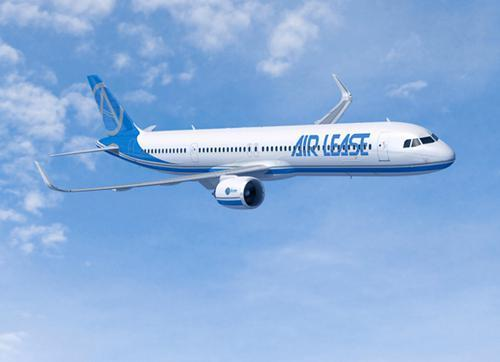airplane: (33, 72, 463, 209)
